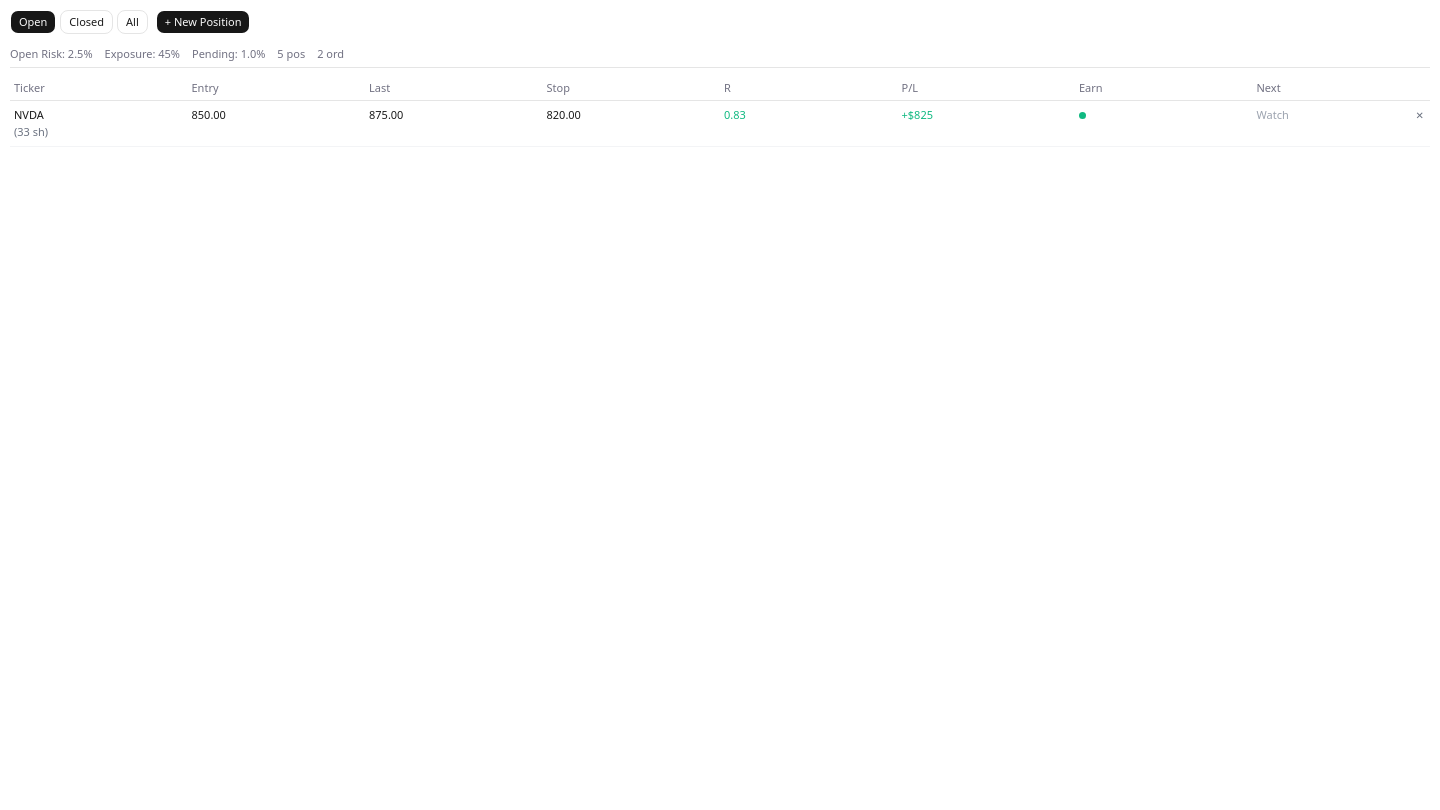
S13 – [+ New Position] opens PositionFormDialog mode=new › button click → dialog opens with "New Position" title
Expected: the text "NVDA" is shown, [14, 107, 44, 122]
Click the button "+ New Position" at (203, 22), box [156, 10, 250, 34]
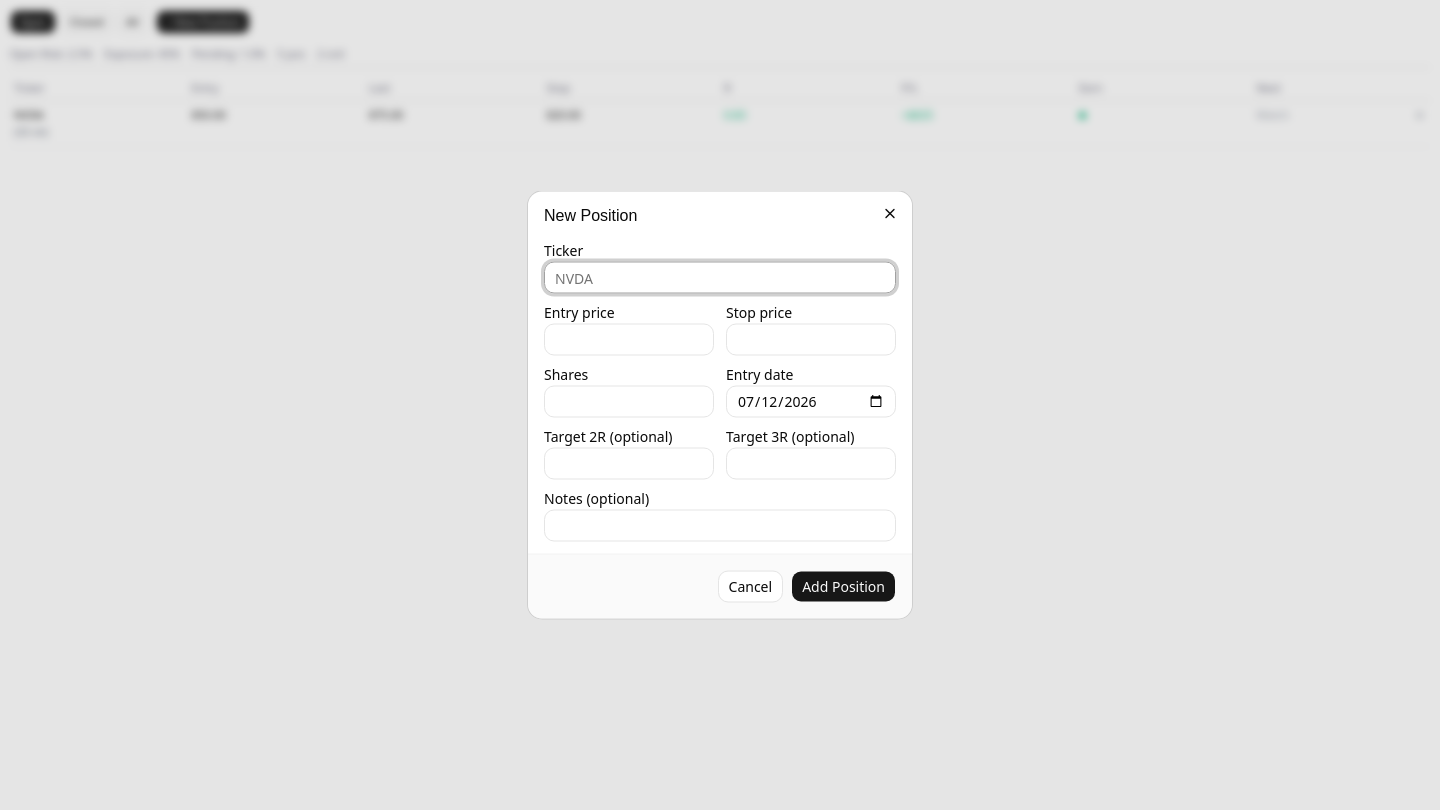
Now the heading "New Position" is shown, box [544, 206, 637, 224]
